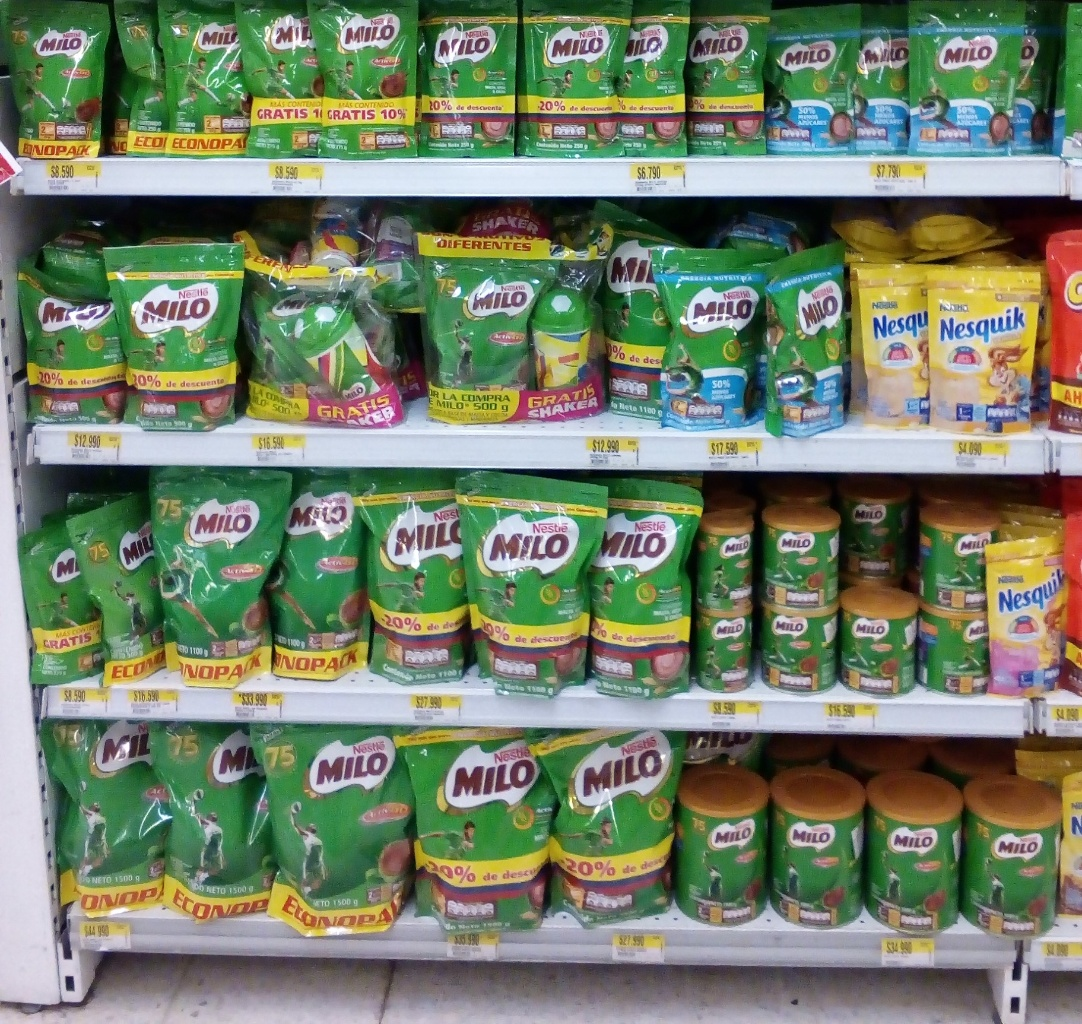COL0170203DYP25000: (1, 8, 114, 162)
COL0170203DYP50000: (74, 496, 180, 688)
COL0170203LAT20000: (708, 504, 765, 607)
COL0170203LAT40000: (849, 580, 926, 693)
COL0170205DYP20000: (770, 3, 868, 154)
COL0170205DYP50000: (648, 243, 762, 432)
COL0170305DYP20000: (993, 535, 1070, 703)
COL0170306DYP20000: (930, 257, 1060, 441)
